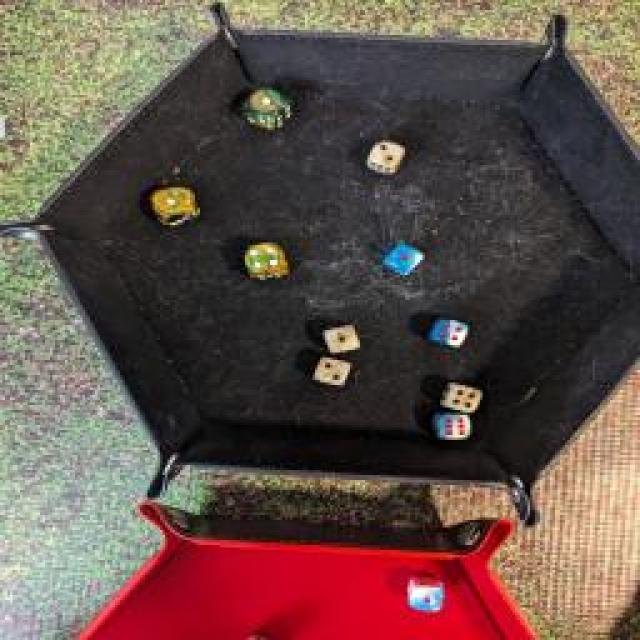dice_1: (146, 182, 206, 228), (238, 86, 298, 129), (398, 572, 452, 616), (382, 239, 426, 279), (318, 322, 364, 356)
dice_2: (308, 354, 358, 388), (364, 137, 408, 175)
dice_4: (235, 239, 295, 281), (440, 375, 485, 415), (425, 314, 470, 348)
dice_6: (429, 409, 479, 441)
